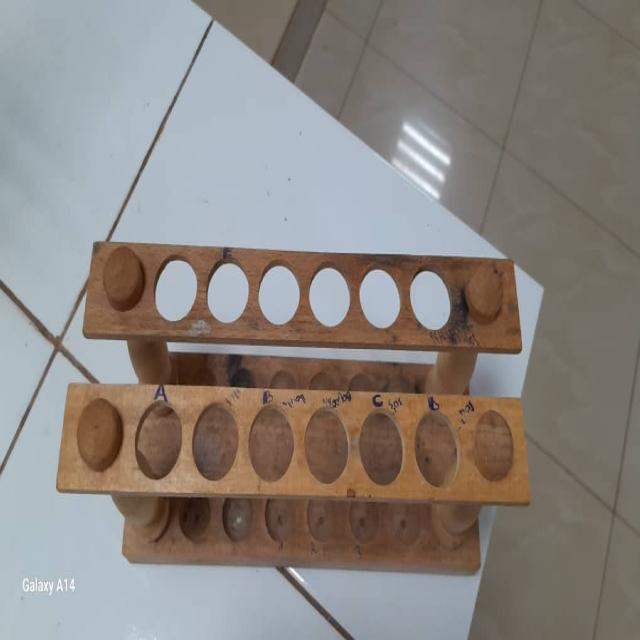Test Tube Racks: (53, 235, 537, 588)
